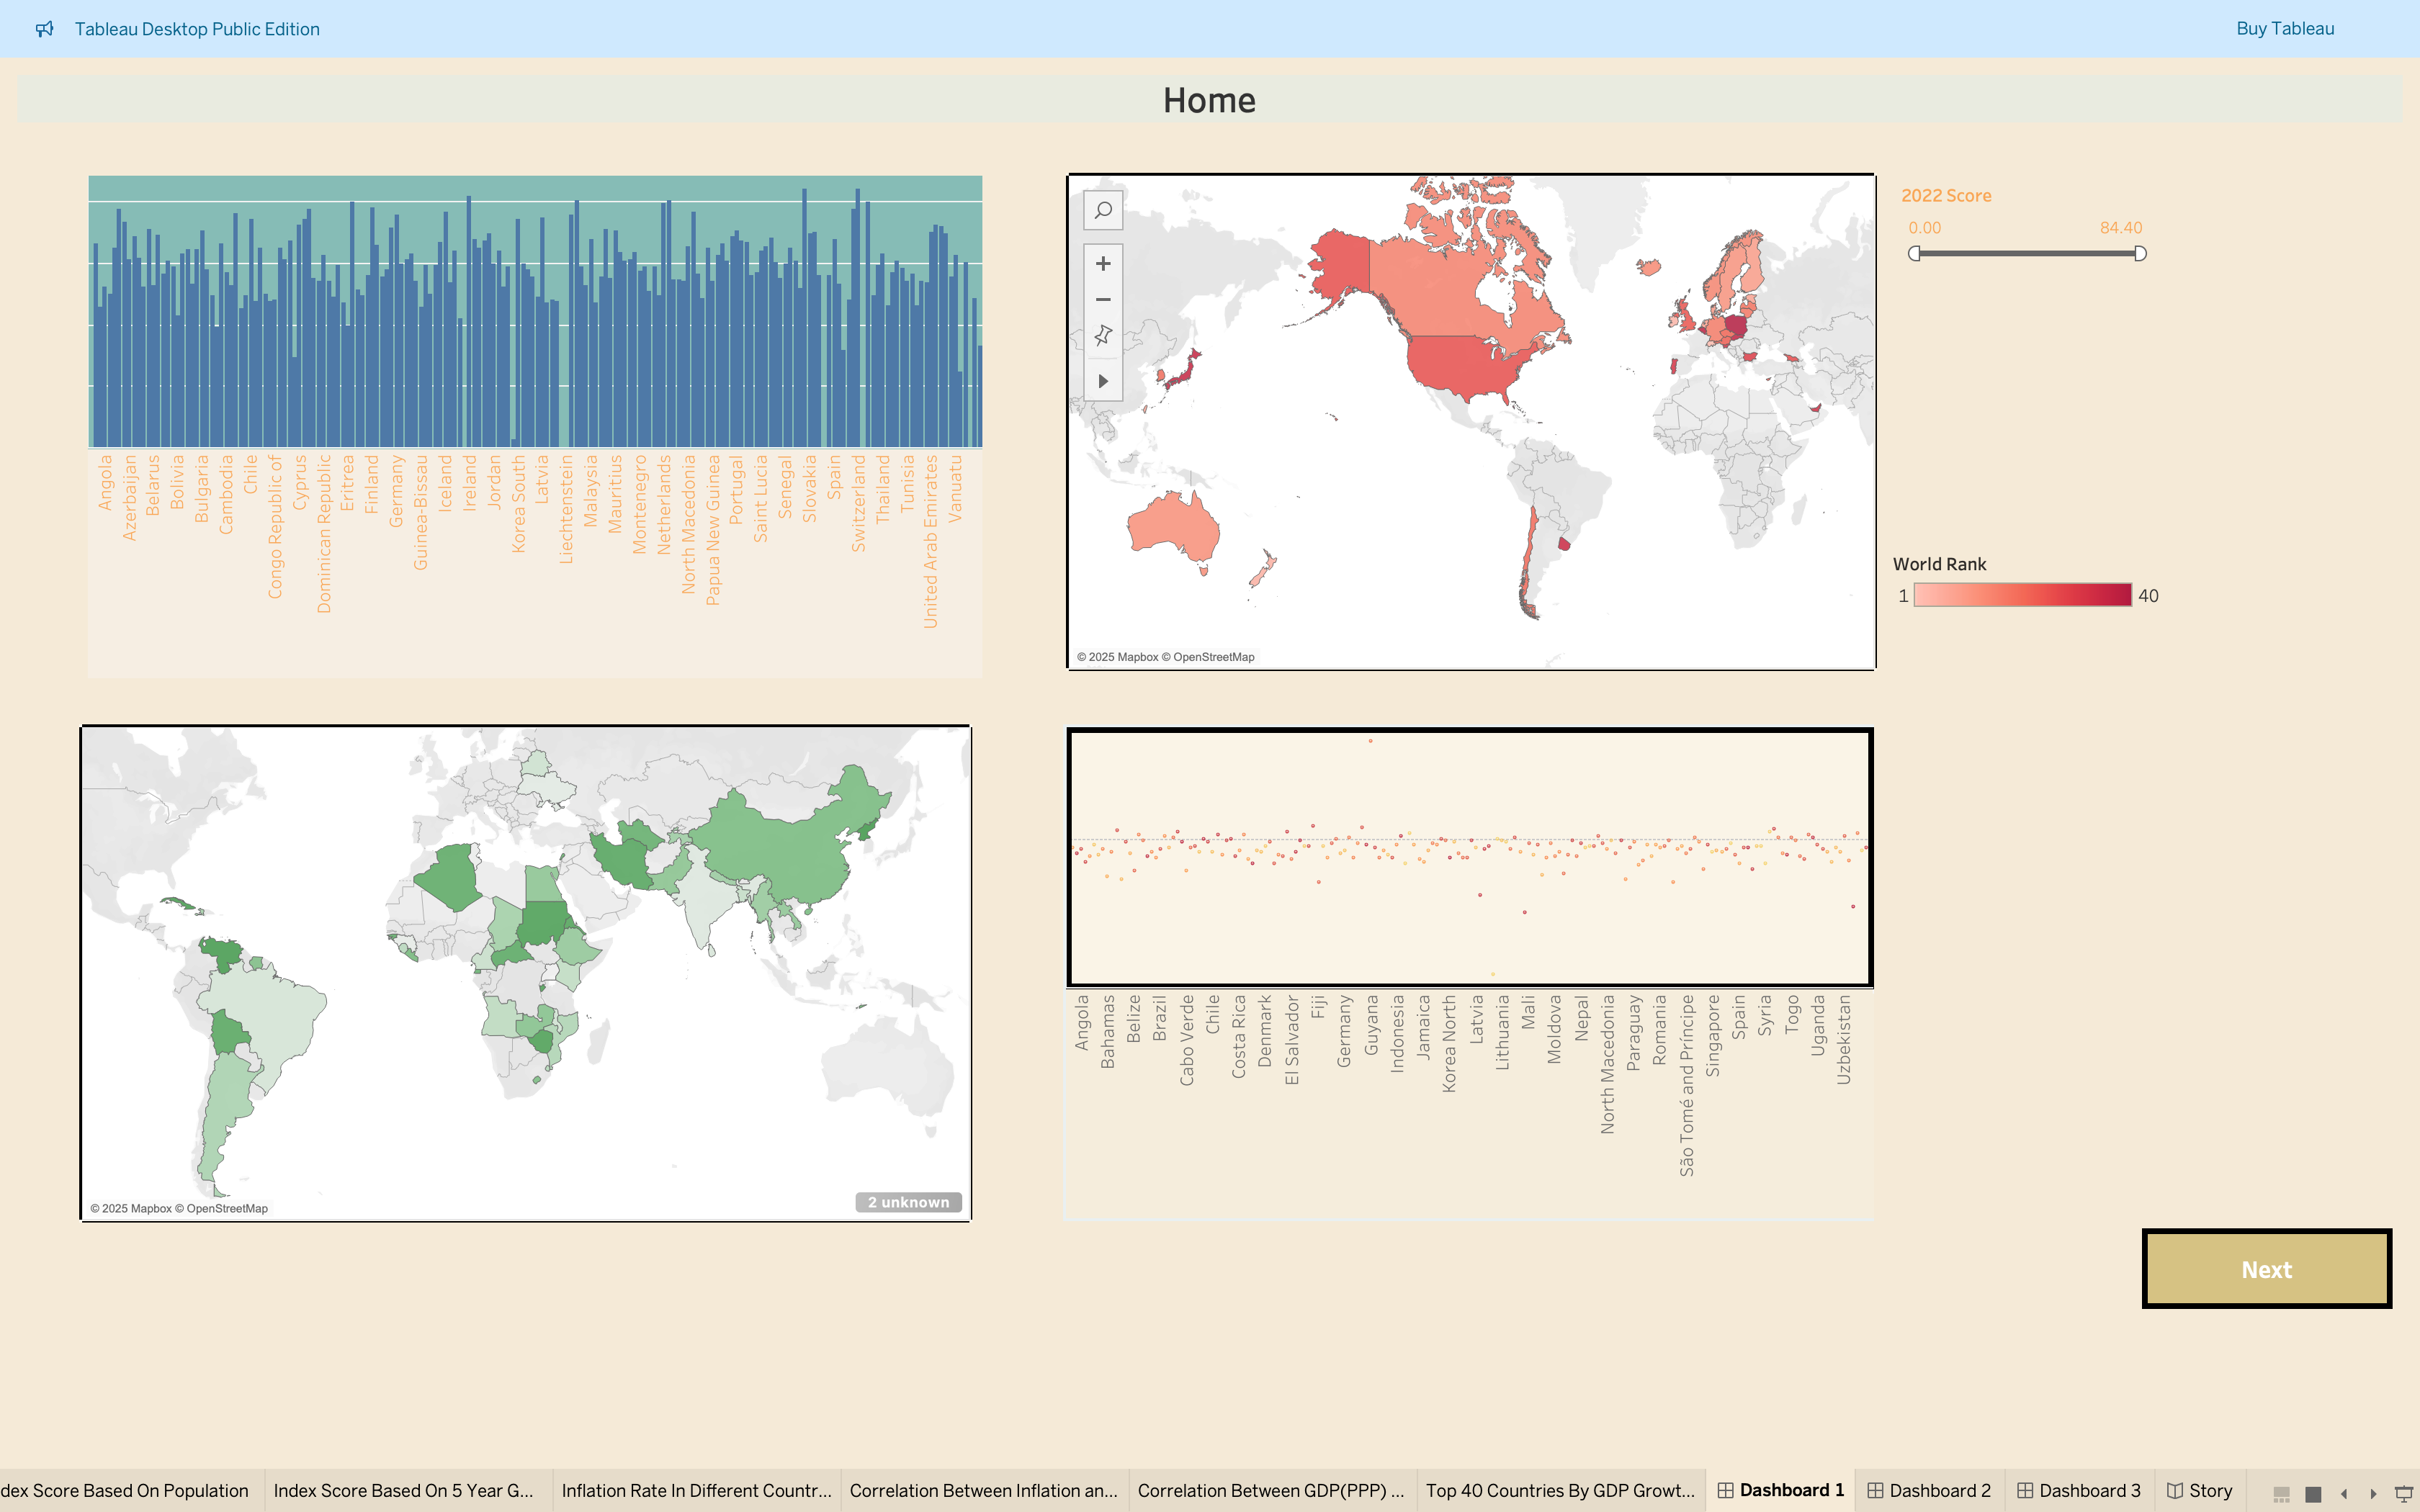

This screenshot's page, from the dashboard's own definition file:
{"tool":"tableau","page":{"name":"Dashboard 1","canvas":[1000,1000],"units":"permille","ordinal":0},"visuals":[{"type":"title","box":[5.5,8.7,989.1,44.7]},{"type":"worksheet","title":"Top 40 Ranking Countries In The Index","mark":"Automatic","box":[440.4,81.7,334.9,352.9]},{"type":"worksheet","title":"2022 Economic Freedom Score","mark":"Automatic","rows":["2022 Score"],"cols":["Country Name"],"box":[36.1,83.9,369.6,356.2]},{"type":"filter","title":"2022 Economic Freedom Score","param":"[federated.042wyc91rotaj818snlb71x89js2].[sum:2022 Score:qk]","box":[783.5,85,108.9,75.2]},{"type":"legend","title":"Top 40 Ranking Countries In The Index","param":"[federated.042wyc91rotaj818snlb71x89js2].[sum:World Rank:qk]","box":[782.2,349.7,113,82.8]},{"type":"worksheet","title":"Bottom Ranking Countries In The Index","mark":"Multipolygon","box":[32.7,472.8,369,352.9]},{"type":"worksheet","title":"Top 40 Countries By GDP Growth Rate","mark":"Shape","rows":["GDP Growth Rate (%)"],"cols":["Country Name"],"box":[439.1,472.8,335.6,351.9]},{"type":"dashboard-object","box":[885,830.1,103.5,56.6]}]}

Visuals, with their boxes on the dashboard's canvas, which has no fixed pixel size, in thousandths of its width and height (x1, y1, x2, y2). These are canvas units, not pixel positions in the 2420x1512 screenshot, which may show the page scaled, cropped or inside an application window:
title: (left=6, top=9, right=995, bottom=53)
"Top 40 Ranking Countries In The Index" worksheet: (left=440, top=82, right=775, bottom=435)
"2022 Economic Freedom Score" worksheet: (left=36, top=84, right=406, bottom=440)
"2022 Economic Freedom Score" filter: (left=784, top=85, right=892, bottom=160)
"Top 40 Ranking Countries In The Index" legend: (left=782, top=350, right=895, bottom=432)
"Bottom Ranking Countries In The Index" worksheet (Multipolygon marks): (left=33, top=473, right=402, bottom=826)
"Top 40 Countries By GDP Growth Rate" worksheet (Shape marks): (left=439, top=473, right=775, bottom=825)
dashboard-object: (left=885, top=830, right=988, bottom=887)
